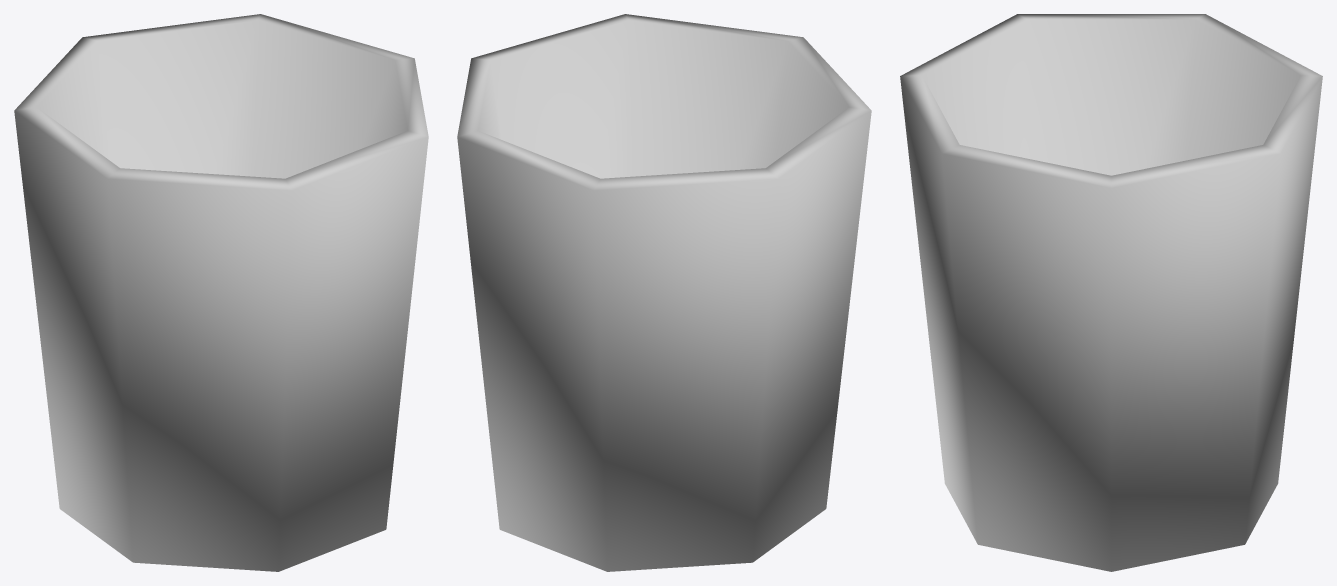
File: Waste_Basket_A.FBX
The picture shows the model from 3 angles, left to right: view 1: azimuth 30°, elevation 25°; view 2: azimuth 150°, elevation 25°; view 3: azimuth 270°, elevation 25°; orthographic projection.
Visible parts, largest first — view 1: Waste_basket; view 2: Waste_basket; view 3: Waste_basket.
Boxes of the visible parts, box(x1,y1,x2,y2) form: Waste_basket: box(14, 14, 428, 571); Waste_basket: box(457, 14, 871, 571); Waste_basket: box(900, 14, 1322, 571).
Size of the model in its own units: 65.27 by 70.93 by 66.94.
